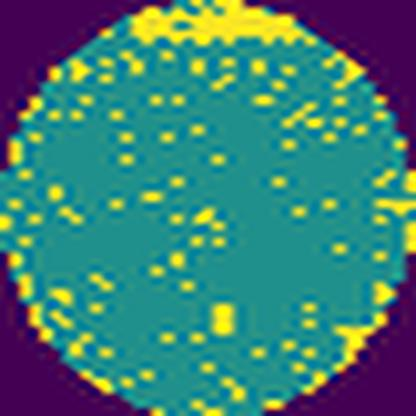Edge-Loc: (120, 0, 322, 48), (331, 313, 386, 380)
